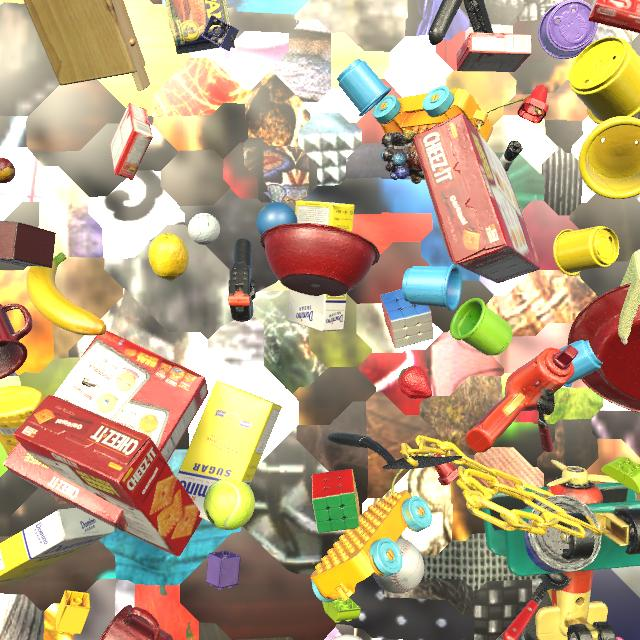ycb_002_master_chef_can: (524, 495, 601, 573)
ycb_003_cracker_box: (3, 330, 208, 532), (13, 395, 202, 557), (413, 113, 540, 283)
ycb_004_sugar_box: (177, 381, 282, 522), (0, 508, 115, 586), (287, 201, 355, 332)
ycb_006_mustard_bottle: (0, 386, 46, 455)
ycb_008_pudding_box: (82, 378, 96, 388)
ycb_009_gelatin_box: (110, 103, 153, 180), (456, 32, 532, 72), (588, 0, 640, 33)
ycb_010_potted_meat_can: (165, 0, 235, 54)
ycb_011_banana: (27, 252, 107, 335)
ycb_012_strawberry: (398, 366, 432, 399)
ycb_014_lemon: (149, 233, 189, 282)
